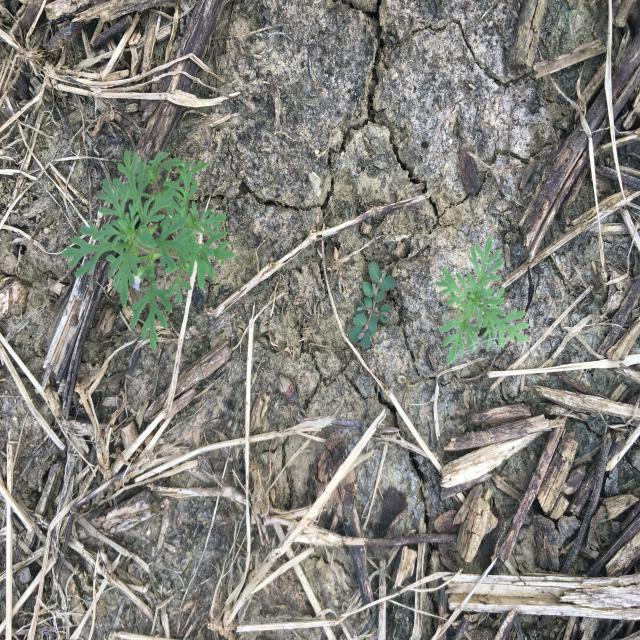Ragweed: (60, 147, 235, 353), (433, 235, 532, 368)
SpottedSpurge: (348, 261, 397, 350)
